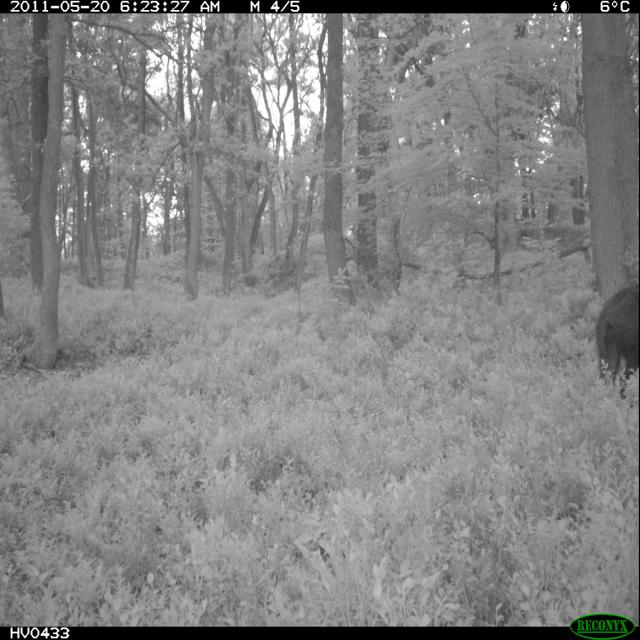boar: (578, 244, 640, 416)
